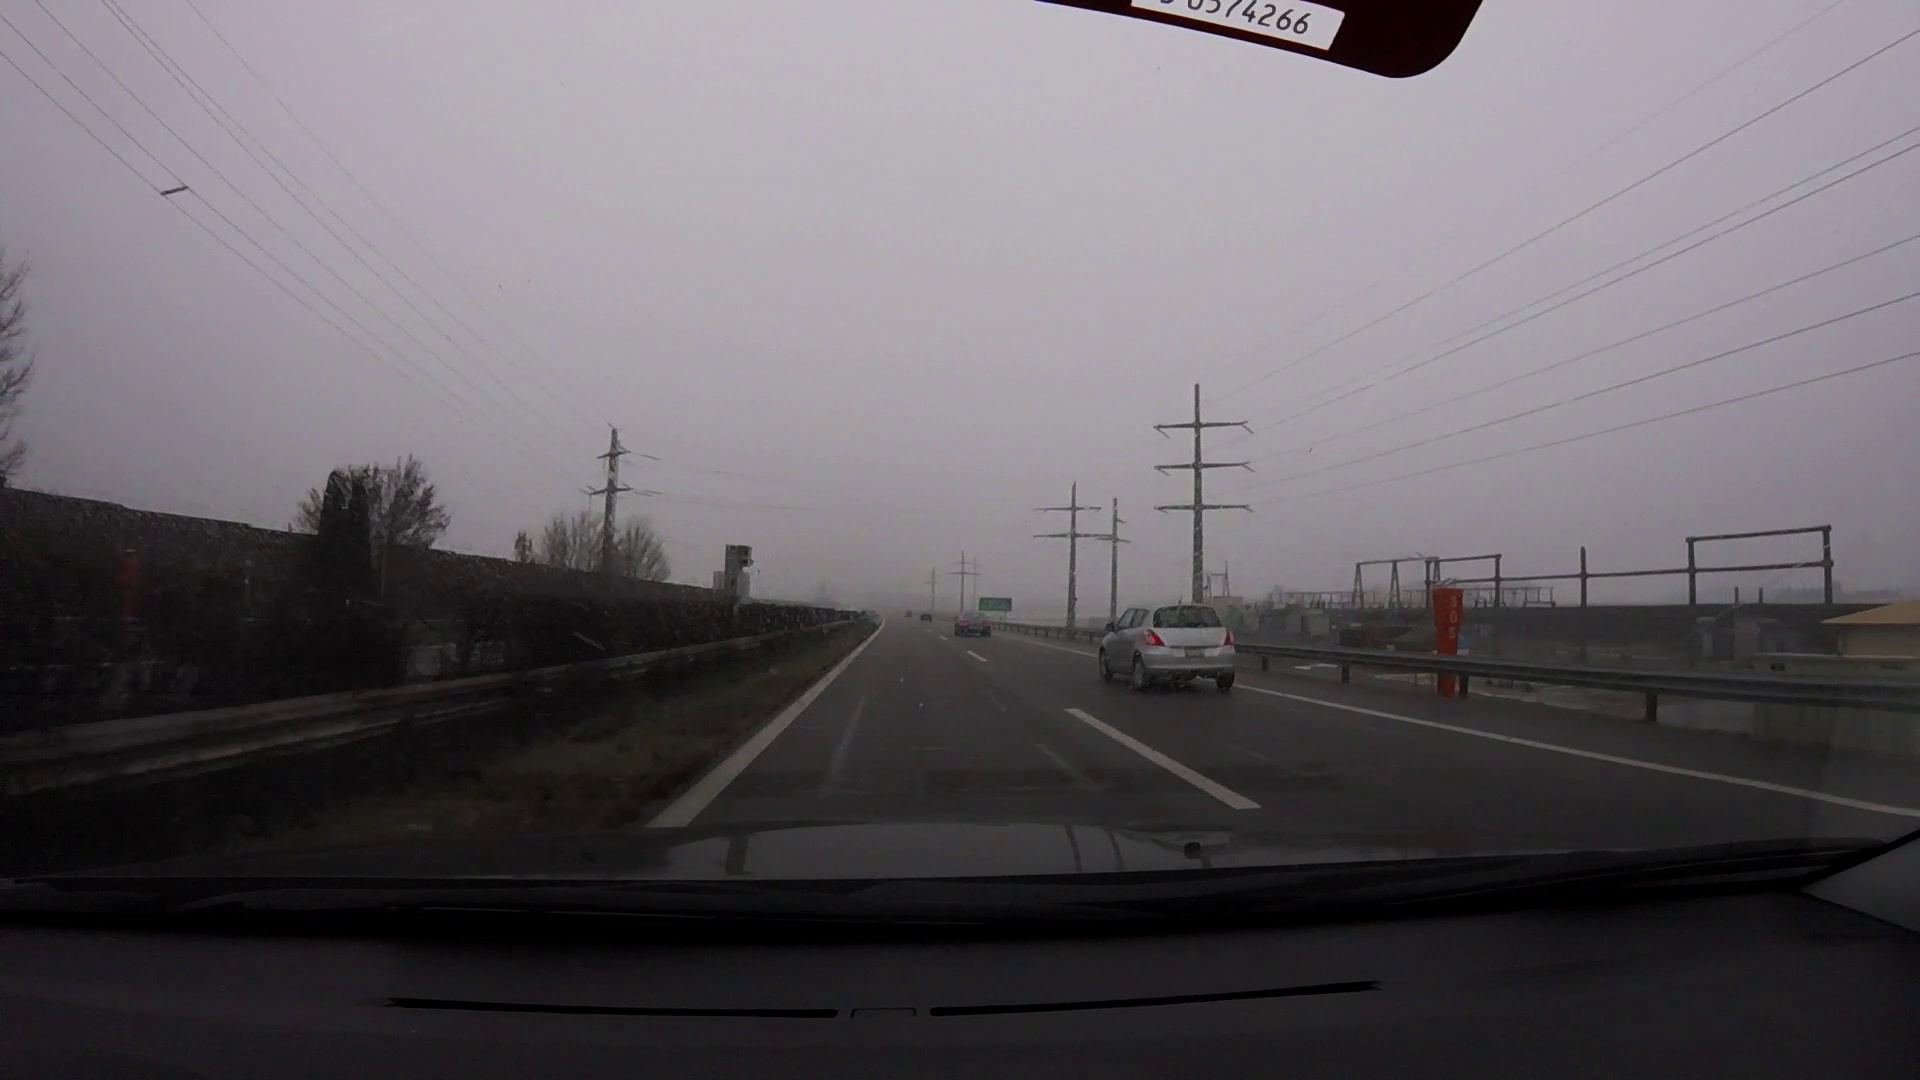radar: (723, 542, 757, 615)
